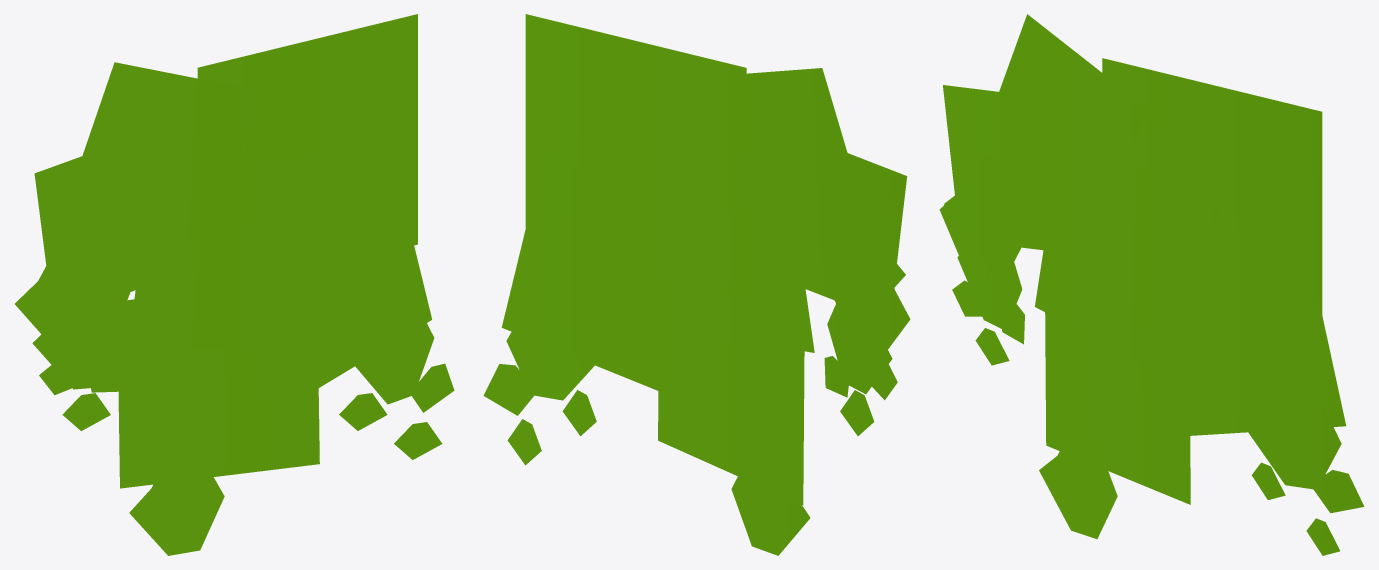
File: Prop_Vine3.fbx
3 renders of one model, left to right at view 1: azimuth 30°, elevation 25°; view 2: azimuth 150°, elevation 25°; view 3: azimuth 330°, elevation 25°, orthographic.
Visible parts, largest first — view 1: Prop_Vine3; view 2: Prop_Vine3; view 3: Prop_Vine3.
Part boxes in pixels (<box>): Prop_Vine3: <box>15,14,454,555</box>; Prop_Vine3: <box>483,14,910,555</box>; Prop_Vine3: <box>939,14,1364,555</box>.
Bounding box in the file's own units: 189 × 210 × 21.37.
